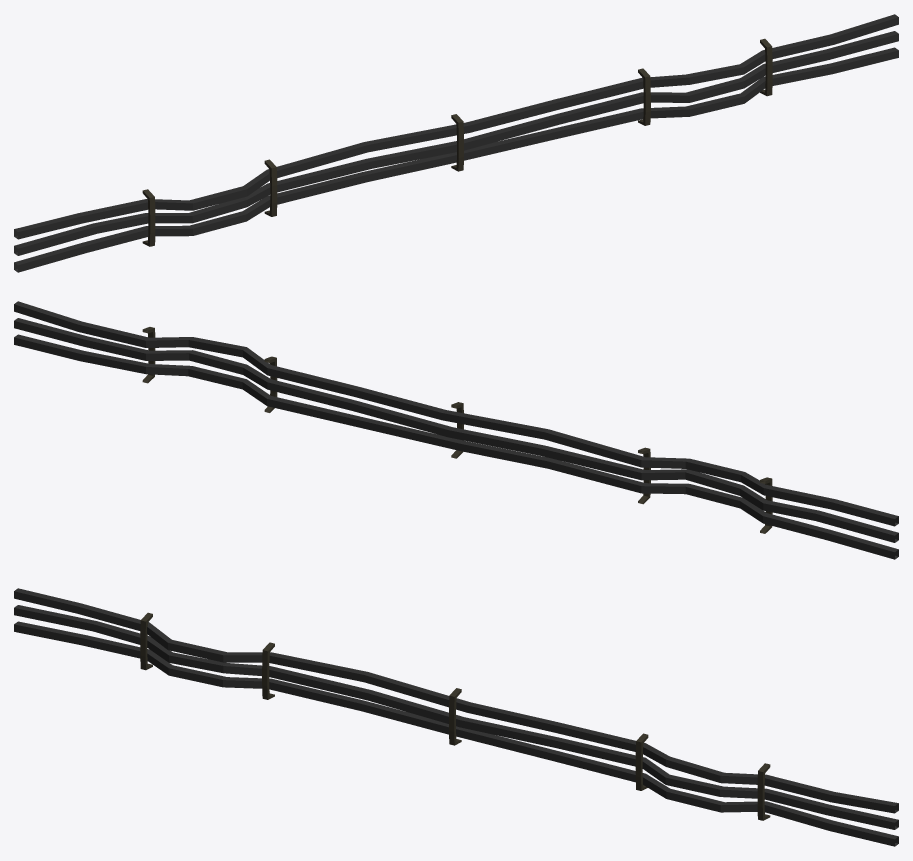
File: SW_ENV_Wires3_RailTunnelWall_04_05m.fbx
3 views of the same model, one above another, from view 1: azimuth 30°, elevation 25°; view 2: azimuth 150°, elevation 25°; view 3: azimuth 330°, elevation 25° (orthographic).
Visible parts, largest first — view 1: SW_ENV_Wires3_RailTunnelWall_04_05m; view 2: SW_ENV_Wires3_RailTunnelWall_04_05m; view 3: SW_ENV_Wires3_RailTunnelWall_04_05m.
Boxes of the visible parts, x1,y1,x2,y2 form: SW_ENV_Wires3_RailTunnelWall_04_05m: (14,14,898,272); SW_ENV_Wires3_RailTunnelWall_04_05m: (14,301,898,559); SW_ENV_Wires3_RailTunnelWall_04_05m: (14,588,898,846).
Size of the model in its own units: 500 by 28.66 by 14.88.
